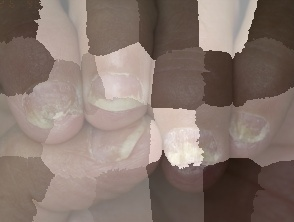Nail_psoriasis: (78, 112, 161, 179), (13, 71, 87, 136), (162, 121, 224, 183), (84, 65, 150, 117), (226, 105, 276, 156)
